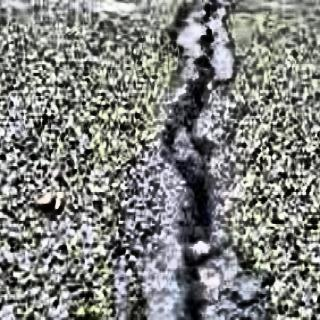crack: (157, 1, 219, 320)
